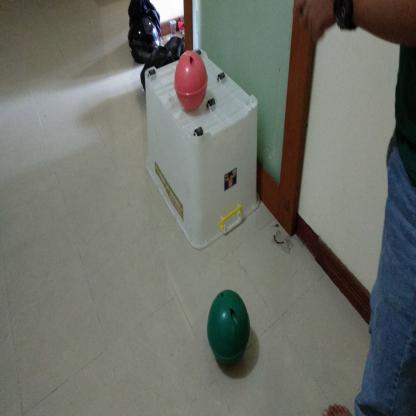green_buoy: (205, 284, 252, 371)
red_buoy: (171, 49, 211, 112)
